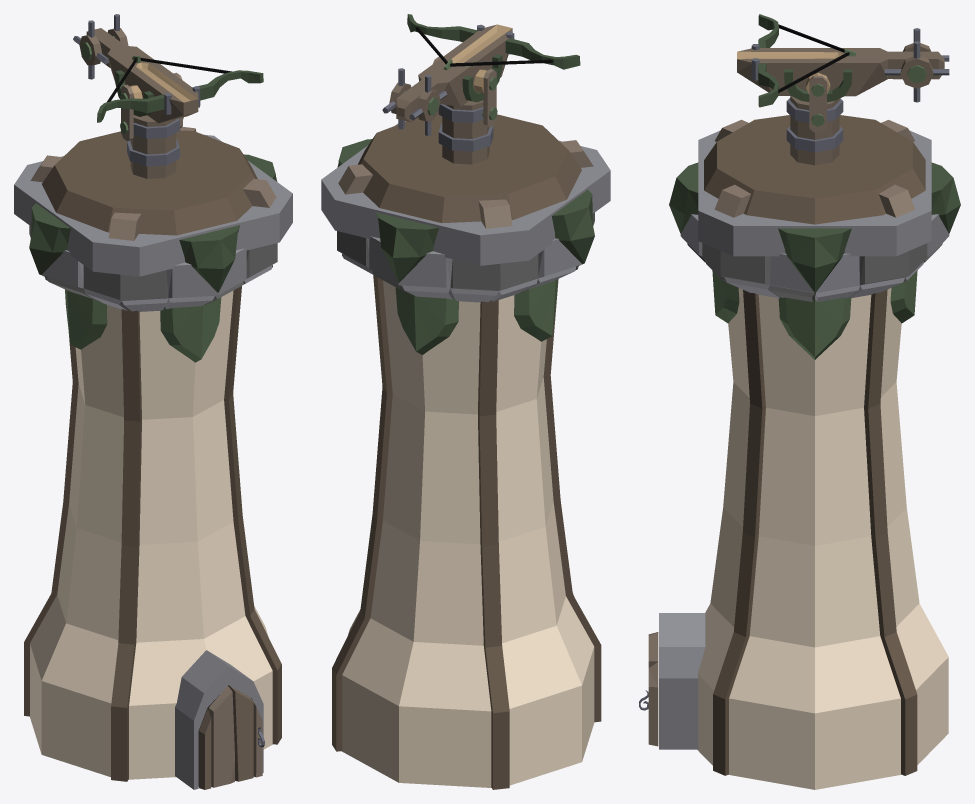
The model's file is _Ballista_tower_LVL_1.fbx.
The picture shows the model from 3 angles, left to right: view 1: azimuth 30°, elevation 25°; view 2: azimuth 150°, elevation 25°; view 3: azimuth 270°, elevation 25°; orthographic projection. The views are drawn at different scales.
Visible parts, largest first — view 1: Ballista_tower_LVL_1.001, Ballista_tower_LVL_1.002; view 2: Ballista_tower_LVL_1.001, Ballista_tower_LVL_1.002; view 3: Ballista_tower_LVL_1.001, Ballista_tower_LVL_1.002.
Boxes of the visible parts, left/top/right/bottom form: Ballista_tower_LVL_1.001: left=14, top=115, right=292, bottom=789; Ballista_tower_LVL_1.002: left=73, top=14, right=263, bottom=141; Ballista_tower_LVL_1.001: left=321, top=100, right=610, bottom=789; Ballista_tower_LVL_1.002: left=382, top=14, right=580, bottom=135; Ballista_tower_LVL_1.001: left=639, top=96, right=960, bottom=789; Ballista_tower_LVL_1.002: left=737, top=14, right=949, bottom=132.
Size of the model in its own units: 547 by 1409 by 590.
